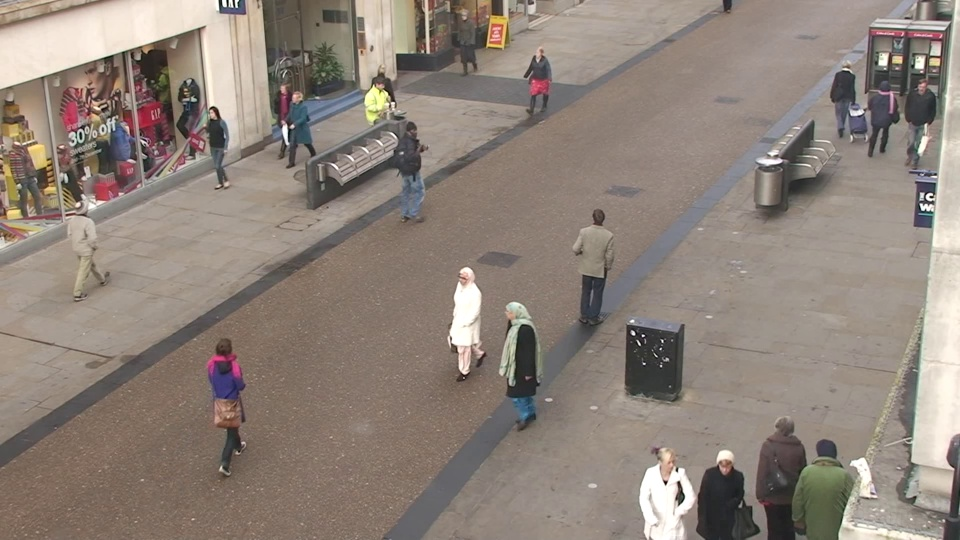pedestrian: (200, 327, 259, 476), (750, 403, 812, 540), (791, 425, 855, 540), (491, 294, 537, 437), (692, 436, 754, 540), (637, 435, 696, 540), (447, 259, 492, 393), (62, 195, 114, 309), (579, 204, 617, 324), (898, 77, 941, 167), (860, 80, 900, 169), (396, 119, 430, 215), (200, 103, 236, 192), (827, 57, 862, 139), (284, 86, 316, 172), (271, 78, 303, 162), (370, 72, 400, 155), (368, 61, 397, 140), (527, 44, 553, 120), (457, 7, 481, 72)
